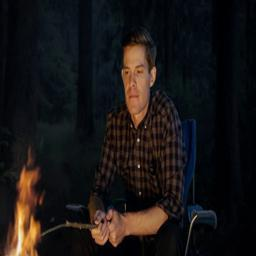fire: (5, 165, 41, 256)
